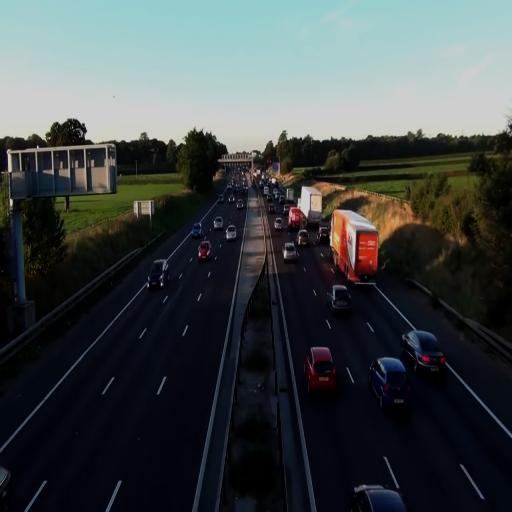vehicle: (329, 206, 379, 286), (368, 356, 412, 413), (400, 328, 445, 377), (303, 345, 338, 398), (350, 482, 409, 512), (414, 330, 445, 378), (327, 285, 352, 317), (148, 258, 168, 290), (288, 206, 302, 230), (283, 242, 298, 263), (198, 240, 212, 261), (296, 229, 310, 248), (226, 224, 237, 240), (192, 224, 202, 238)
